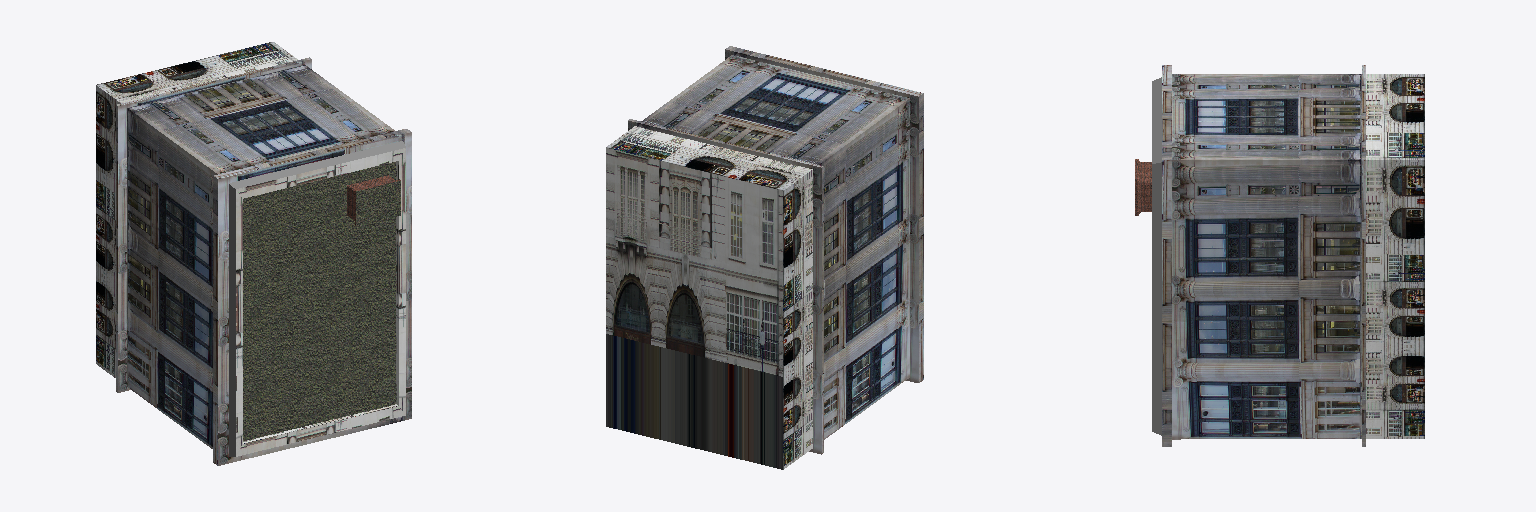
3 views of the same model, side by side, from view 1: azimuth 30°, elevation 25°; view 2: azimuth 150°, elevation 25°; view 3: azimuth 270°, elevation 25° (orthographic).
Parts seen in each view (by area): view 1: Shops_C_03; view 2: Shops_C_03; view 3: Shops_C_03.
Boxes of the visible parts, box(x1,y1,x2,y2) form: Shops_C_03: box(96, 42, 411, 465); Shops_C_03: box(606, 46, 923, 469); Shops_C_03: box(1135, 65, 1424, 446).
Bounding box in the file's own units: 34.89 × 49.36 × 45.18.
5 materials, 4 textured.